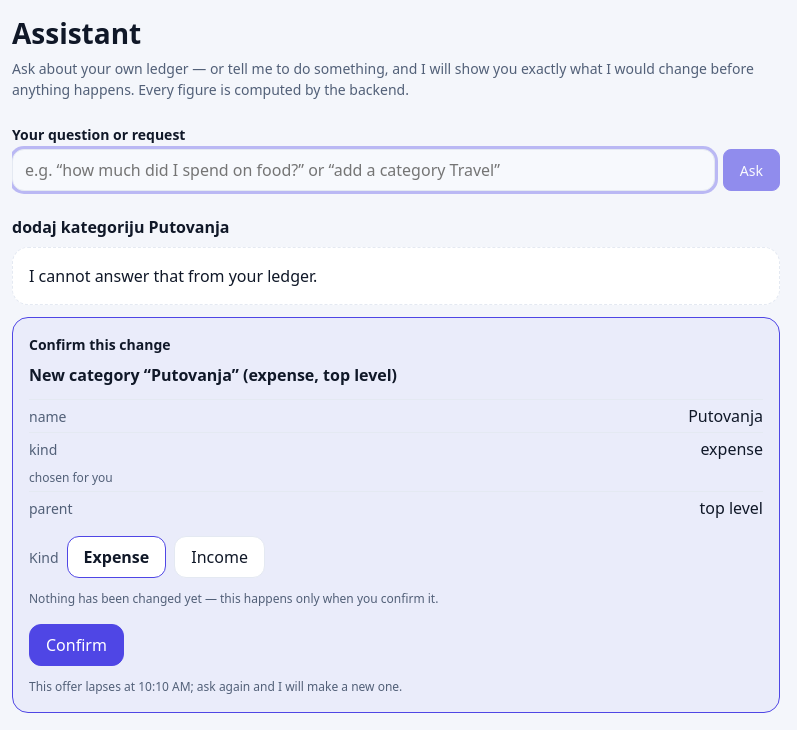
Test: the assistant write path (B-2b) › confirms with the proposal id and one idempotency key, and nothing else
Click the button with class "act__confirm" at (76, 645), box [29,624,124,666]
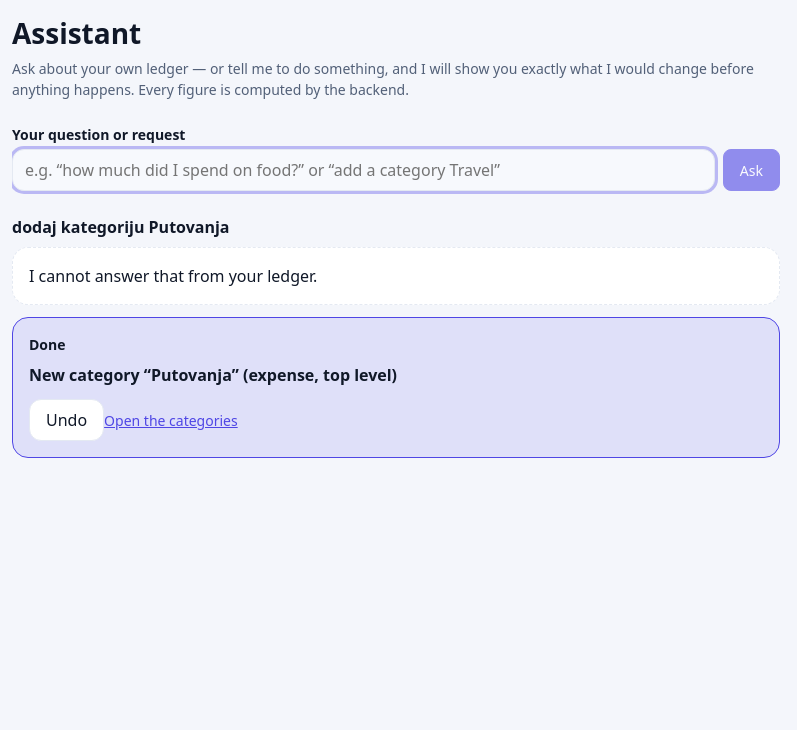
Expected: the text "New category “Putovanja” (expense, top level)" is shown, [29,364,397,386]
Result: the element with class "act--done" is shown at [12,317,780,458]
Result: the button with class "act__confirm" is gone
